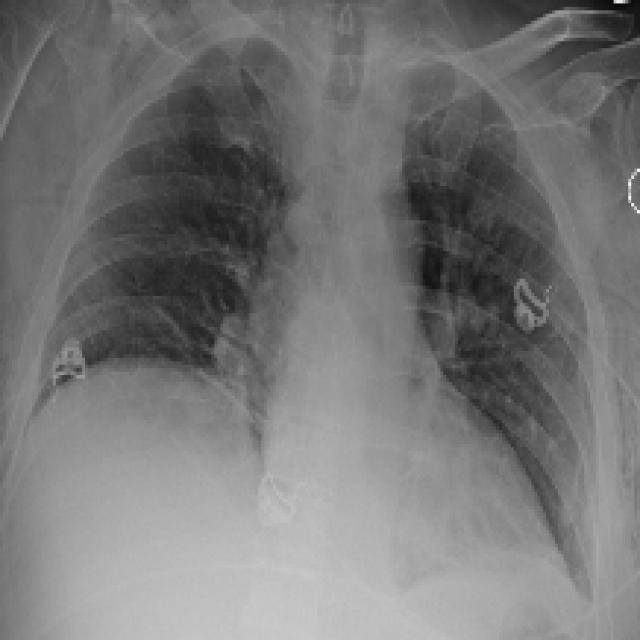coronavirus: (0, 0, 640, 640), (0, 1, 640, 640)
